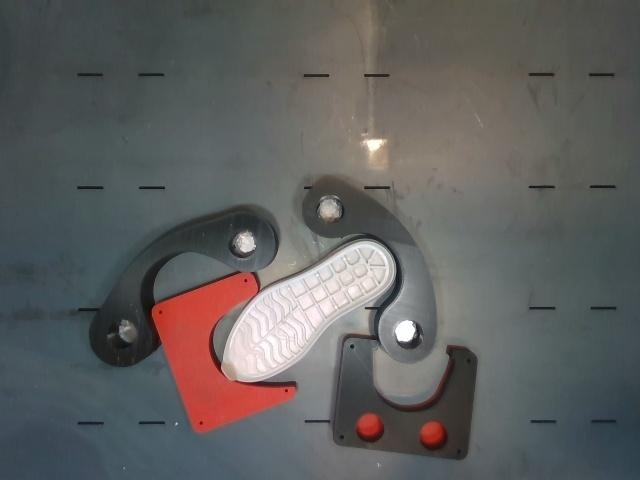shoes: (222, 241, 393, 382)
